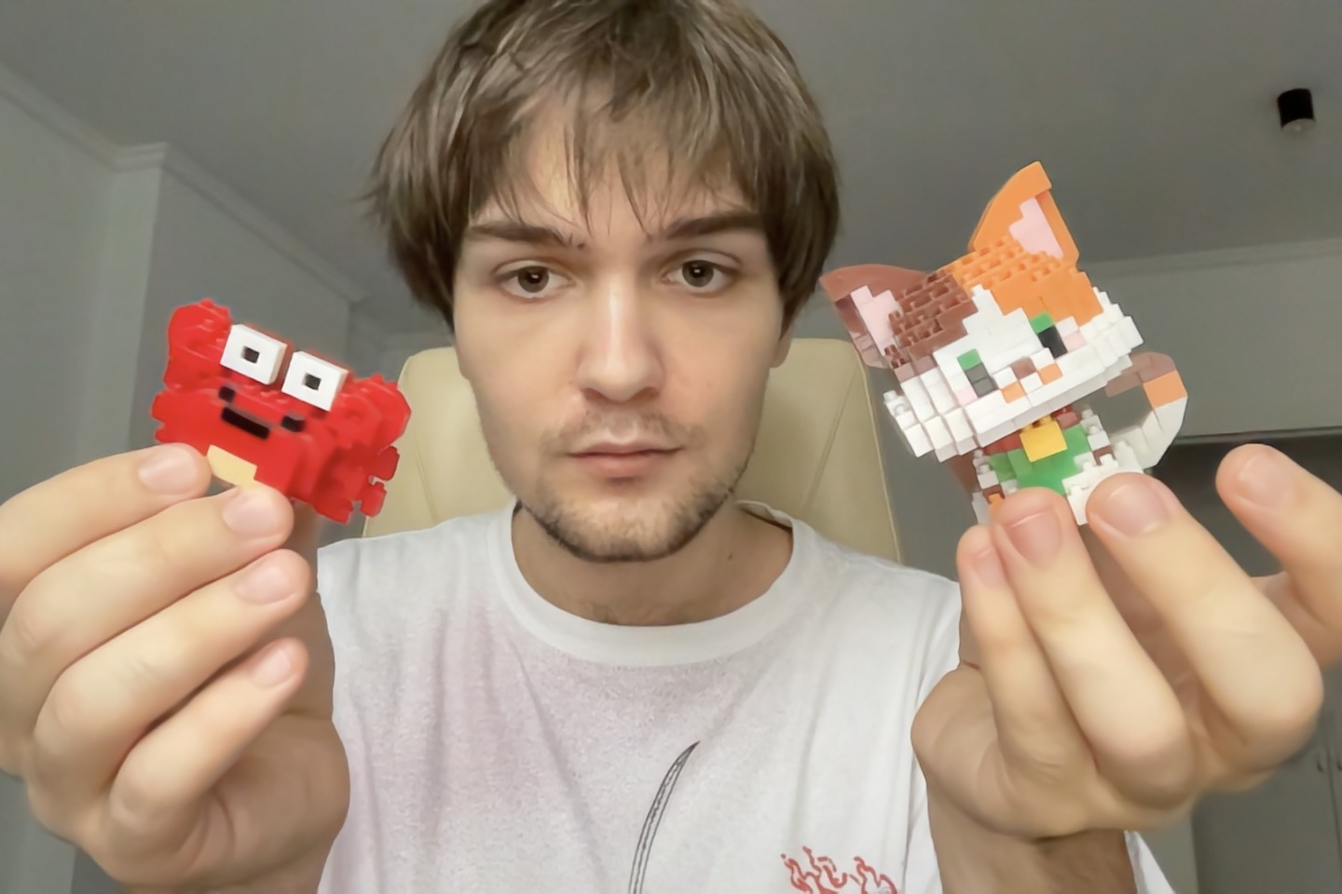cat: (811, 158, 1194, 534)
crab: (152, 289, 417, 539)
